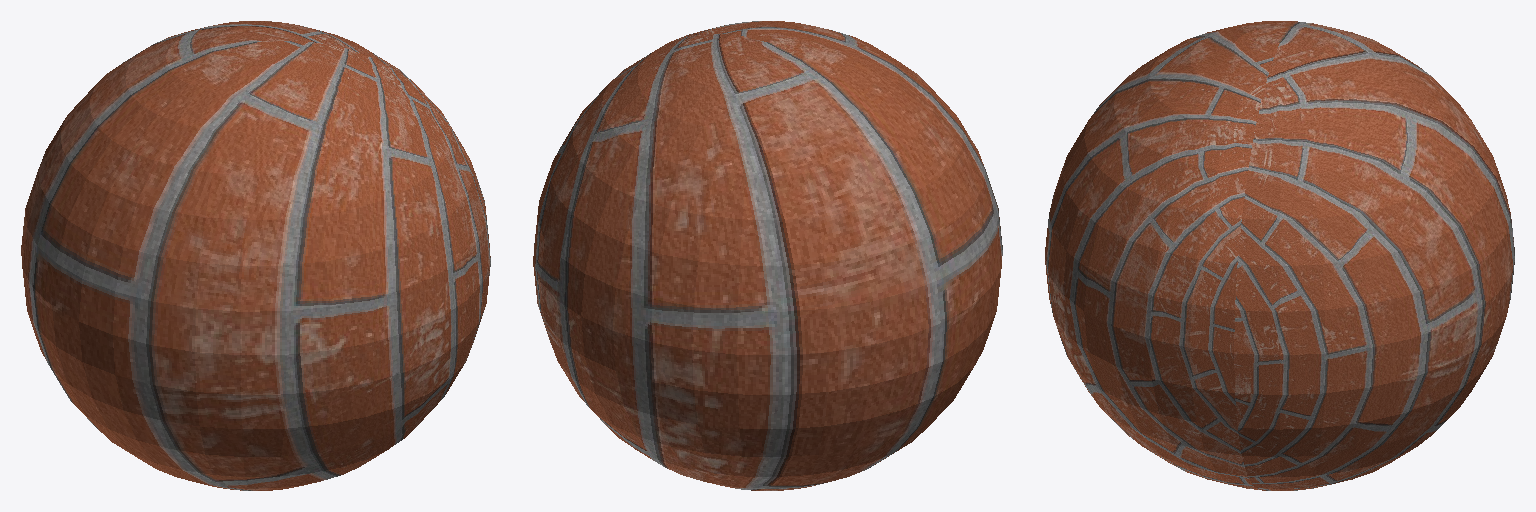
3 views of the same model, side by side, from view 1: azimuth 30°, elevation 25°; view 2: azimuth 150°, elevation 25°; view 3: azimuth 270°, elevation 25° (orthographic).
Parts seen in each view (by area): view 1: Sphere; view 2: Sphere; view 3: Sphere.
Boxes of the visible parts, <box> form: Sphere: <box>21,21,490,490</box>; Sphere: <box>533,21,1002,490</box>; Sphere: <box>1045,21,1514,490</box>.
Bounding box in the file's own units: 2 × 2 × 2.
1 materials, 1 textured.